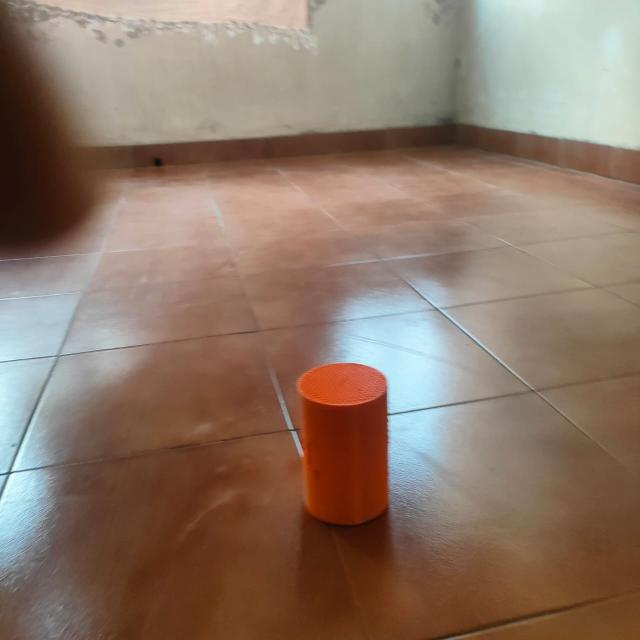Cylinder: (295, 362, 389, 526)
